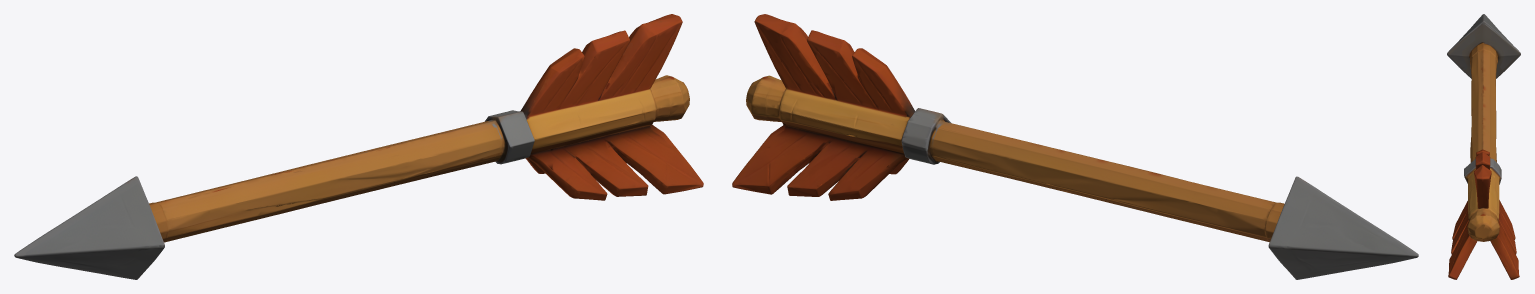
File: arrow.glb
3 views of the same model, side by side, from view 1: azimuth 30°, elevation 25°; view 2: azimuth 150°, elevation 25°; view 3: azimuth 270°, elevation 25° (orthographic). The views are drawn at different scales.
Visible parts, largest first — view 1: node_0; view 2: node_0; view 3: node_0.
Part boxes in pixels (x1,y1,x2,y2): node_0: [14, 14, 703, 279]; node_0: [732, 14, 1418, 279]; node_0: [1447, 14, 1520, 279].
Bounding box in the file's own units: 1.18 × 0.2645 × 0.1703.
Materials: 1 (1 with a texture image).
